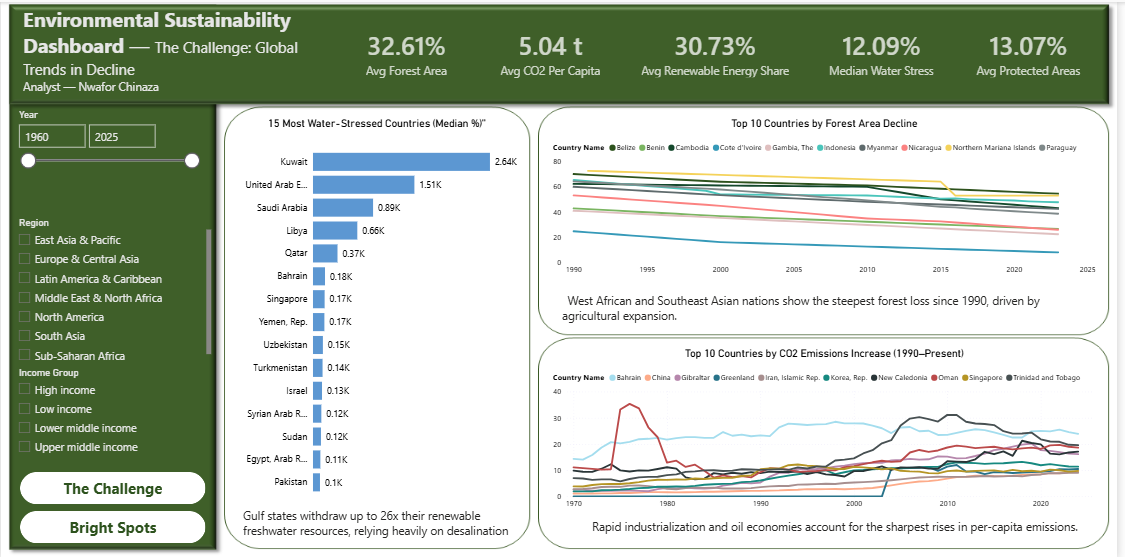

The dashboard page shown, as its layout file describes it:
{"tool":"powerbi","page":{"name":"The Challenge","canvas":[1800,900],"ordinal":0},"visuals":[{"type":"lineChart","title":"Top 10 Countries by Forest Area Decline","fields":{"Category":["WDICSV.Year"],"Series":["WDICSV.Country Name"],"Y":["Avg(WDICSV.Value)"]},"box":[884.9,185.7,884.9,264.3],"z":0},{"type":"clusteredBarChart","title":"15 Most Water-Stressed Countries (Median %)\"","fields":{"Category":["WDICSV.Country Name"],"Y":["Median(WDICSV.Value)"]},"box":[374.7,185.7,463.4,624],"z":1000},{"type":"slicer","fields":{"Values":["WDICSV.Region"]},"box":[16.7,341.3,327.9,242.6],"z":2000},{"type":"slicer","fields":{"Values":["WDICSV.Income Group"]},"box":[16.7,583.8,327.9,158.9],"z":3000},{"type":"slicer","fields":{"Values":["WDICSV.Year"]},"box":[15.9,168.3,313.6,173.6],"z":4000},{"type":"cardVisual","fields":{"Data":["WDICSV.Median Water Stress"]},"box":[1300.4,26.6,240.9,113.8],"z":5000},{"type":"cardVisual","fields":{"Data":["WDICSV.Avg Renewable Share"]},"box":[999.2,26.6,304.5,113.8],"z":6000},{"type":"cardVisual","fields":{"Data":["WDICSV.Avg Protected Areas"]},"box":[1541.3,26.6,230.9,113.8],"z":7000},{"type":"cardVisual","fields":{"Data":["WDICSV.Avg CO2 Per Capita"]},"box":[772.6,25.8,227.4,114.5],"z":8000},{"type":"cardVisual","fields":{"Data":["WDICSV.Avg Forest Area"]},"box":[535.5,25.8,237.9,115],"z":9000},{"type":"textbox","box":[30.1,0,505.2,157.2],"z":10000},{"type":"lineChart","title":"Top 10 Countries by CO2 Emissions Increase (1990–Present)","fields":{"Category":["WDICSV.Year"],"Y":["Avg(WDICSV.Value)"],"Series":["WDICSV.Country Name"]},"box":[884.9,557.1,884.9,271],"z":11000},{"type":"textbox","box":[385.5,809.7,440.3,62.9],"z":12000},{"type":"textbox","box":[900,463.4,869.9,63.6],"z":13000},{"type":"textbox","box":[900,827.4,850,45.2],"z":14000},{"type":"actionButton","box":[30.1,757.8,299.4,51.9],"z":15000},{"type":"actionButton","box":[30.1,821.4,299.4,51.9],"z":16000}]}

Visuals, with their boxes in screenshot pixels (x1, y1, x2, y2), scaled from the page's 1800x900 canvas onto the 1125x557 screenshot:
"Top 10 Countries by Forest Area Decline" lineChart: pyautogui.locateOnScreen(553, 115, 1106, 278)
"15 Most Water-Stressed Countries (Median %)"" clusteredBarChart: pyautogui.locateOnScreen(234, 115, 524, 501)
slicer - WDICSV.Region: pyautogui.locateOnScreen(10, 211, 215, 361)
slicer - WDICSV.Income Group: pyautogui.locateOnScreen(10, 361, 215, 460)
slicer - WDICSV.Year: pyautogui.locateOnScreen(10, 104, 206, 212)
cardVisual - WDICSV.Median Water Stress: pyautogui.locateOnScreen(813, 16, 963, 87)
cardVisual - WDICSV.Avg Renewable Share: pyautogui.locateOnScreen(624, 16, 815, 87)
cardVisual - WDICSV.Avg Protected Areas: pyautogui.locateOnScreen(963, 16, 1108, 87)
cardVisual - WDICSV.Avg CO2 Per Capita: pyautogui.locateOnScreen(483, 16, 625, 87)
cardVisual - WDICSV.Avg Forest Area: pyautogui.locateOnScreen(335, 16, 483, 87)
textbox: pyautogui.locateOnScreen(19, 0, 335, 97)
"Top 10 Countries by CO2 Emissions Increase (1990–Present)" lineChart: pyautogui.locateOnScreen(553, 345, 1106, 513)
textbox: pyautogui.locateOnScreen(241, 501, 516, 540)
textbox: pyautogui.locateOnScreen(562, 287, 1106, 326)
textbox: pyautogui.locateOnScreen(562, 512, 1094, 540)
actionButton: pyautogui.locateOnScreen(19, 469, 206, 501)
actionButton: pyautogui.locateOnScreen(19, 508, 206, 540)
